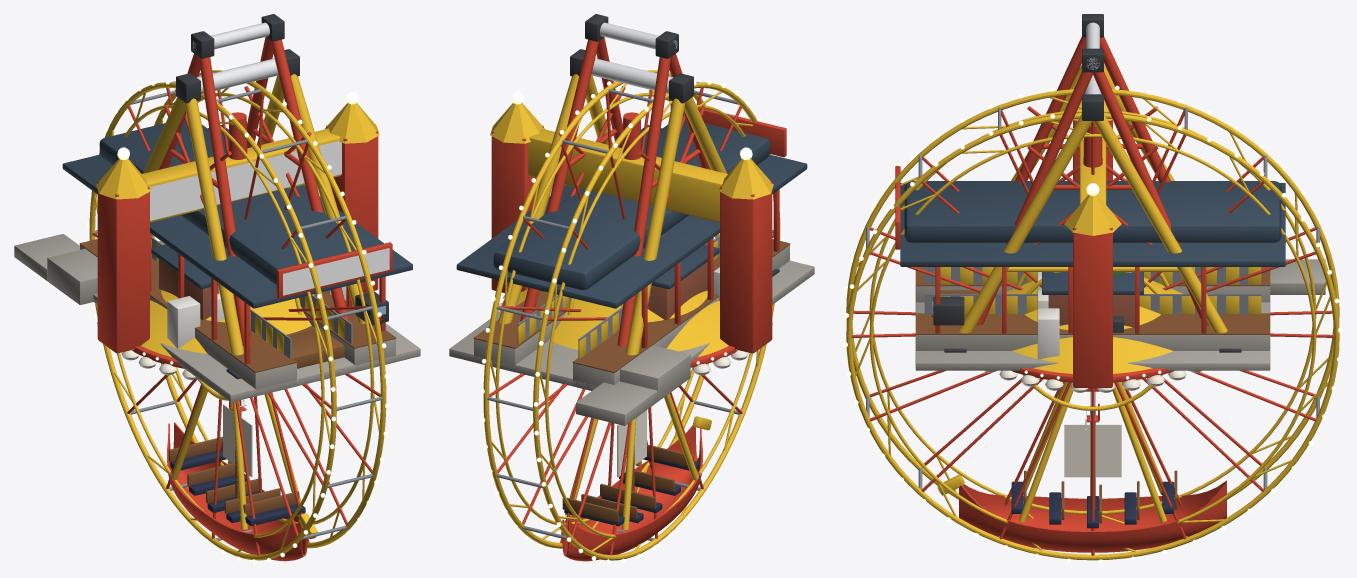
File: parts.glb
3 renders of one model, left to right at view 1: azimuth 30°, elevation 25°; view 2: azimuth 150°, elevation 25°; view 3: azimuth 270°, elevation 25°, orthographic.
Visible parts, largest first — view 1: cs_station, fw_wheel, entrance, ps_frame, ps_ship, fw_frame, entrance_face, sw_canopy, cs_station_face, restroom, sw_tower; view 2: cs_station, fw_wheel, entrance, ps_frame, ps_ship, fw_frame, sw_canopy, restroom, sw_tower; view 3: cs_station, fw_wheel, ps_ship, ps_frame, entrance, fw_frame, sw_canopy, restroom.
Boxes of the visible parts, box(x1,y1,x2,y2) form: cs_station: box(14, 119, 412, 396); fw_wheel: box(86, 66, 389, 563); entrance: box(96, 91, 379, 353); ps_frame: box(93, 49, 420, 402); ps_ship: box(167, 386, 317, 561); fw_frame: box(159, 14, 349, 346); entrance_face: box(150, 141, 341, 220); sw_canopy: box(97, 290, 311, 380); cs_station_face: box(283, 248, 389, 295); restroom: box(151, 244, 219, 320); sw_tower: box(228, 112, 247, 159); cs_station: box(456, 103, 807, 425); fw_wheel: box(480, 67, 783, 563); entrance: box(490, 91, 773, 353); ps_frame: box(449, 49, 814, 389); ps_ship: box(561, 393, 711, 561); fw_frame: box(520, 14, 710, 346); sw_canopy: box(497, 288, 772, 375); restroom: box(636, 244, 719, 320); sw_tower: box(622, 112, 641, 159); cs_station: box(895, 166, 1325, 350); fw_wheel: box(843, 85, 1342, 563); ps_ship: box(937, 381, 1226, 552); ps_frame: box(915, 65, 1270, 370); entrance: box(1037, 100, 1121, 387); fw_frame: box(976, 14, 1209, 325); sw_canopy: box(984, 277, 1201, 392); restroom: box(1042, 272, 1143, 327).
Size of the model in its own units: 14.6 by 25.71 by 22.53.
